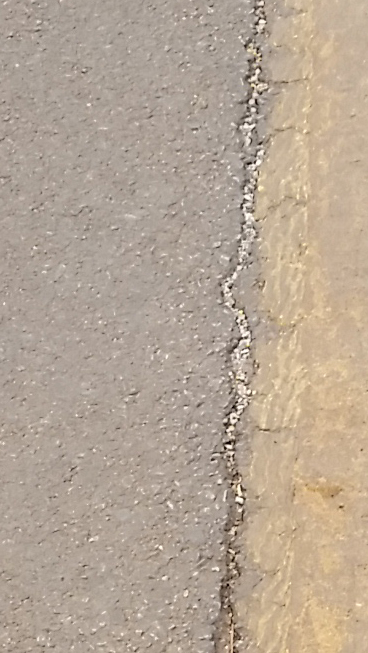A: (199, 1, 285, 649)
